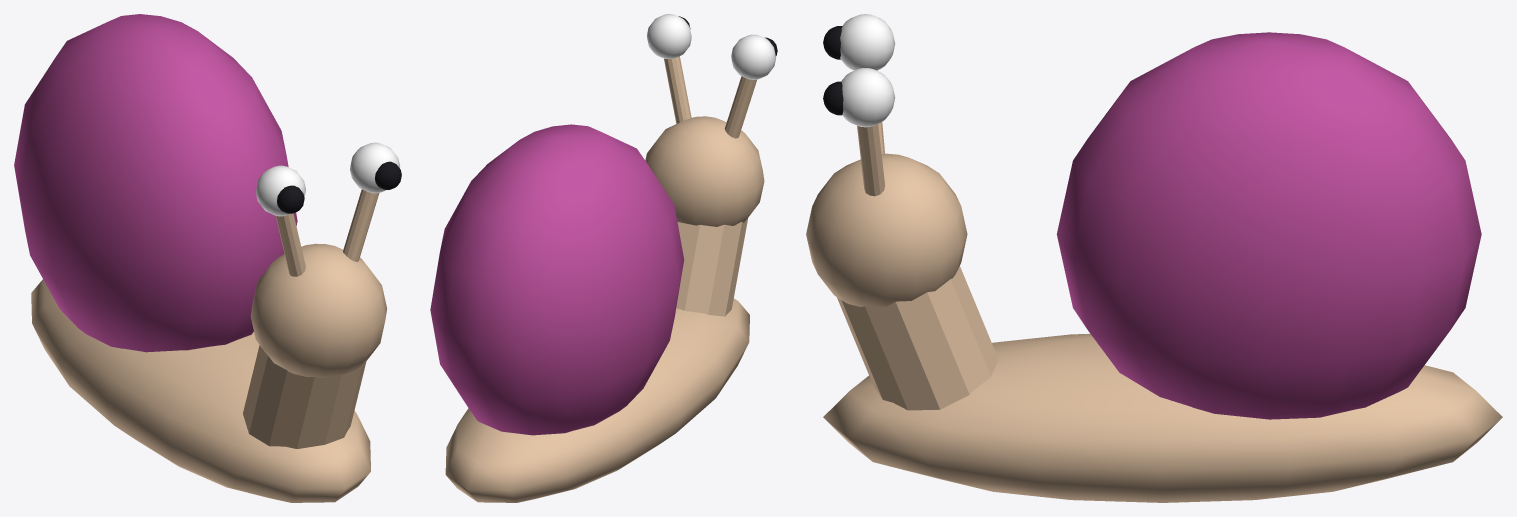
The picture shows the model from 3 angles, left to right: view 1: azimuth 30°, elevation 25°; view 2: azimuth 150°, elevation 25°; view 3: azimuth 270°, elevation 25°; orthographic projection. The views are drawn at different scales.
Visible parts, largest first — view 1: Snail; view 2: Snail; view 3: Snail.
Part boxes in pixels (x1,y1,x2,y2): Snail: [14, 14, 401, 502]; Snail: [430, 14, 777, 502]; Snail: [806, 14, 1502, 502].
Size of the model in its own units: 1.4 by 2.3 by 3.28.
1 material, 1 textured.
